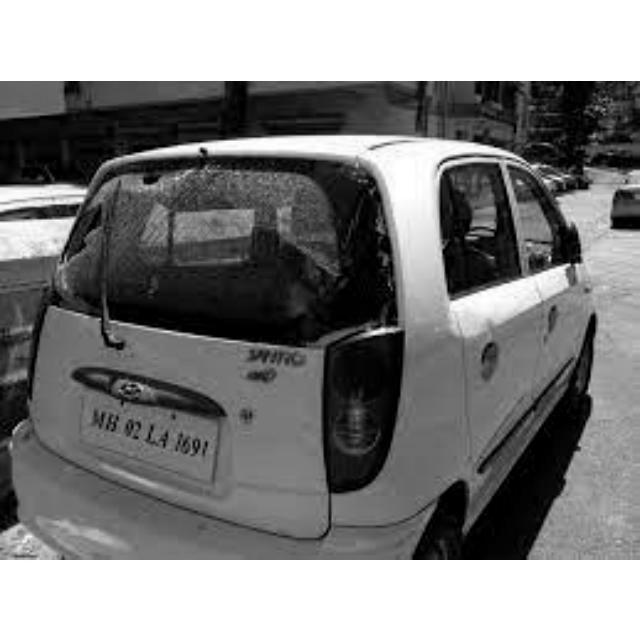Rear-windscreen-Damage: (37, 157, 415, 357)
